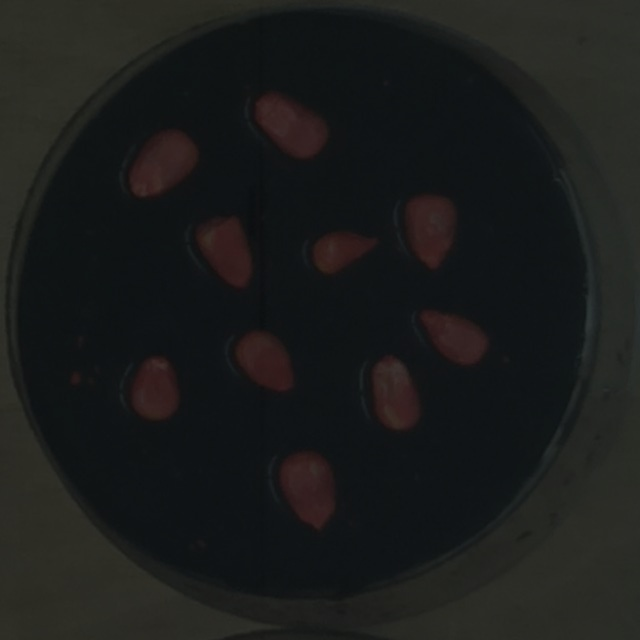Zea mays: (246, 82, 336, 164), (119, 119, 205, 203), (269, 444, 343, 536), (396, 184, 465, 275), (362, 349, 431, 438), (189, 206, 257, 293), (412, 301, 496, 371), (224, 322, 300, 399), (121, 349, 187, 427), (304, 221, 385, 281)
